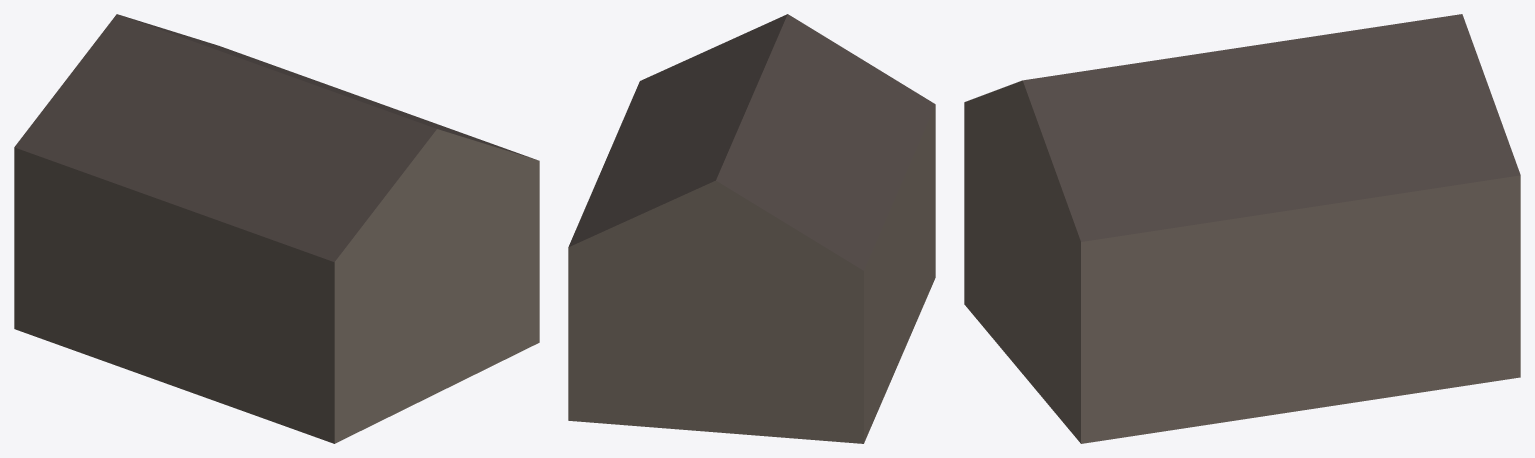
The picture shows the model from 3 angles, left to right: view 1: azimuth 30°, elevation 25°; view 2: azimuth 150°, elevation 25°; view 3: azimuth 270°, elevation 25°; orthographic projection. The views are drawn at different scales.
Visible parts, largest first — view 1: HP-w1198842222; view 2: HP-w1198842222; view 3: HP-w1198842222.
Boxes of the visible parts, x1=… form: HP-w1198842222: x1=14, y1=14, x2=539, y2=443; HP-w1198842222: x1=568, y1=14, x2=935, y2=443; HP-w1198842222: x1=964, y1=14, x2=1520, y2=443.
Size of the model in its own units: 13.14 by 8.73 by 14.99.
